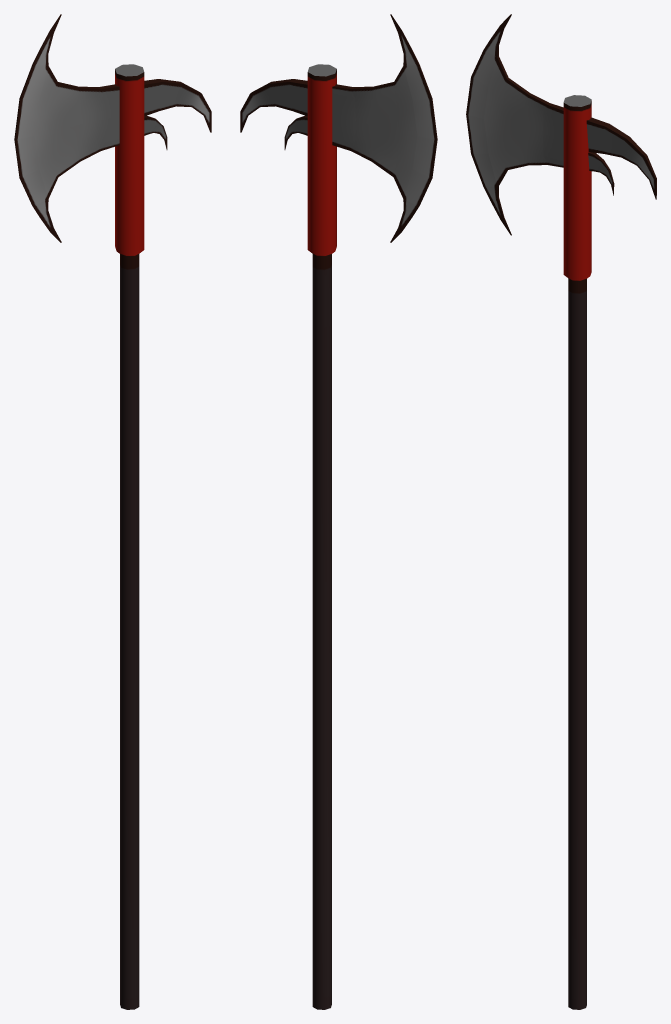
Rendered from lvl1_weapon.fbx.
3 renders of one model, left to right at view 1: azimuth 30°, elevation 25°; view 2: azimuth 150°, elevation 25°; view 3: azimuth 330°, elevation 25°, orthographic. The views are drawn at different scales.
Visible parts, largest first — view 1: weapon_01; view 2: weapon_01; view 3: weapon_01.
Part boxes in pixels (bbox=[...]): weapon_01: bbox=[14, 14, 211, 1009]; weapon_01: bbox=[240, 14, 437, 1009]; weapon_01: bbox=[466, 14, 656, 1009].
Bounding box in the file's own units: 28.7 × 141 × 3.82.
